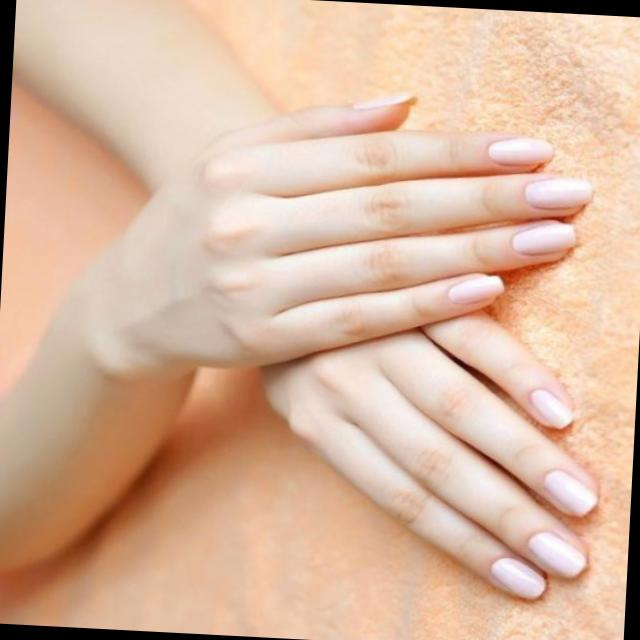Nail: (529, 531, 587, 578), (543, 469, 599, 515), (491, 556, 545, 598), (524, 176, 592, 209), (511, 222, 576, 255), (487, 136, 554, 165), (530, 388, 574, 428), (448, 273, 504, 304), (352, 90, 416, 109)
